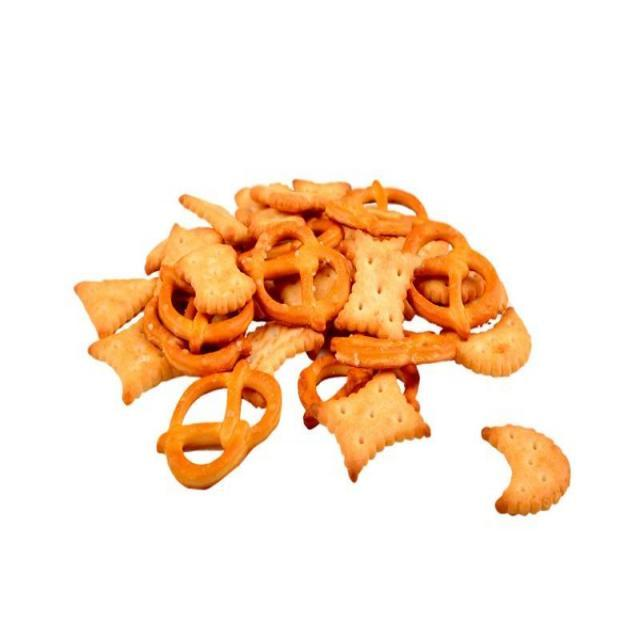Salatini: (74, 158, 588, 527)
